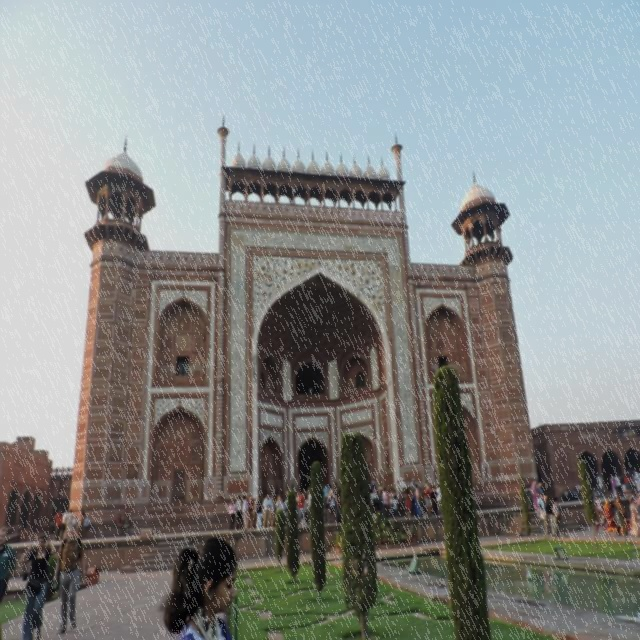pessoa: (156, 533, 247, 639), (18, 534, 56, 639), (52, 522, 86, 636), (0, 527, 16, 605), (600, 498, 620, 537), (594, 494, 608, 536), (544, 496, 558, 537), (612, 496, 626, 537), (628, 495, 639, 541), (620, 470, 639, 494), (411, 483, 424, 518), (333, 481, 343, 526), (322, 481, 332, 526), (260, 492, 271, 532), (327, 487, 338, 525), (52, 508, 64, 542), (114, 511, 130, 536), (266, 492, 276, 530), (296, 490, 306, 528), (423, 482, 433, 519), (227, 498, 238, 531), (240, 492, 249, 532), (552, 496, 560, 539), (235, 494, 244, 532), (608, 474, 620, 501), (255, 492, 263, 532), (530, 481, 540, 513), (70, 510, 80, 541), (368, 486, 378, 516), (430, 486, 440, 516), (80, 513, 90, 541), (61, 506, 69, 540), (381, 486, 389, 520), (403, 488, 412, 518), (536, 502, 546, 529), (246, 494, 253, 532), (434, 483, 442, 516), (250, 496, 258, 529), (595, 469, 604, 498), (614, 472, 624, 498), (537, 493, 548, 516), (77, 509, 85, 540), (524, 483, 533, 510), (63, 509, 77, 526), (376, 488, 383, 522), (417, 484, 424, 518), (562, 488, 578, 502), (283, 498, 290, 530), (275, 495, 286, 512), (274, 493, 284, 511), (388, 488, 394, 514), (392, 494, 398, 520), (534, 482, 544, 496), (636, 490, 639, 534), (402, 486, 406, 497)
